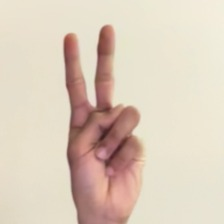K: (54, 15, 161, 220)
